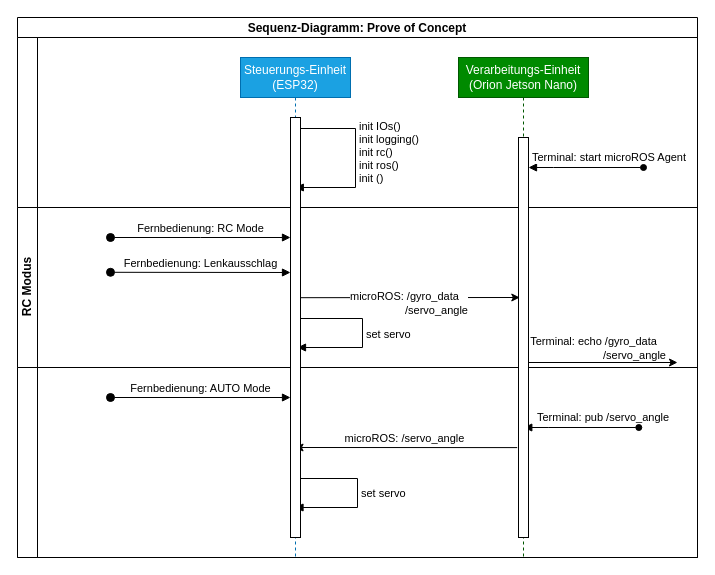
Image size: 715x575. Some labels were removed from this diagram. Each missing label, with the box of its shape:
AUTO Modus: (16, 366, 698, 558)
Setup: (16, 36, 698, 208)
